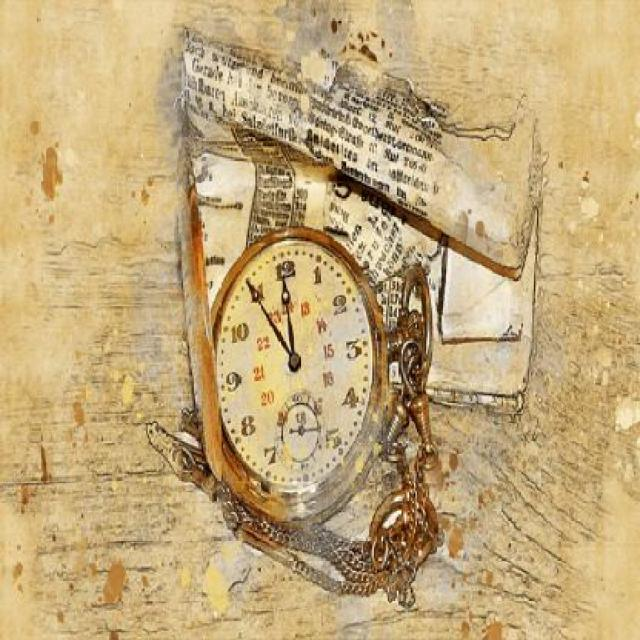clock: (209, 228, 376, 493)
